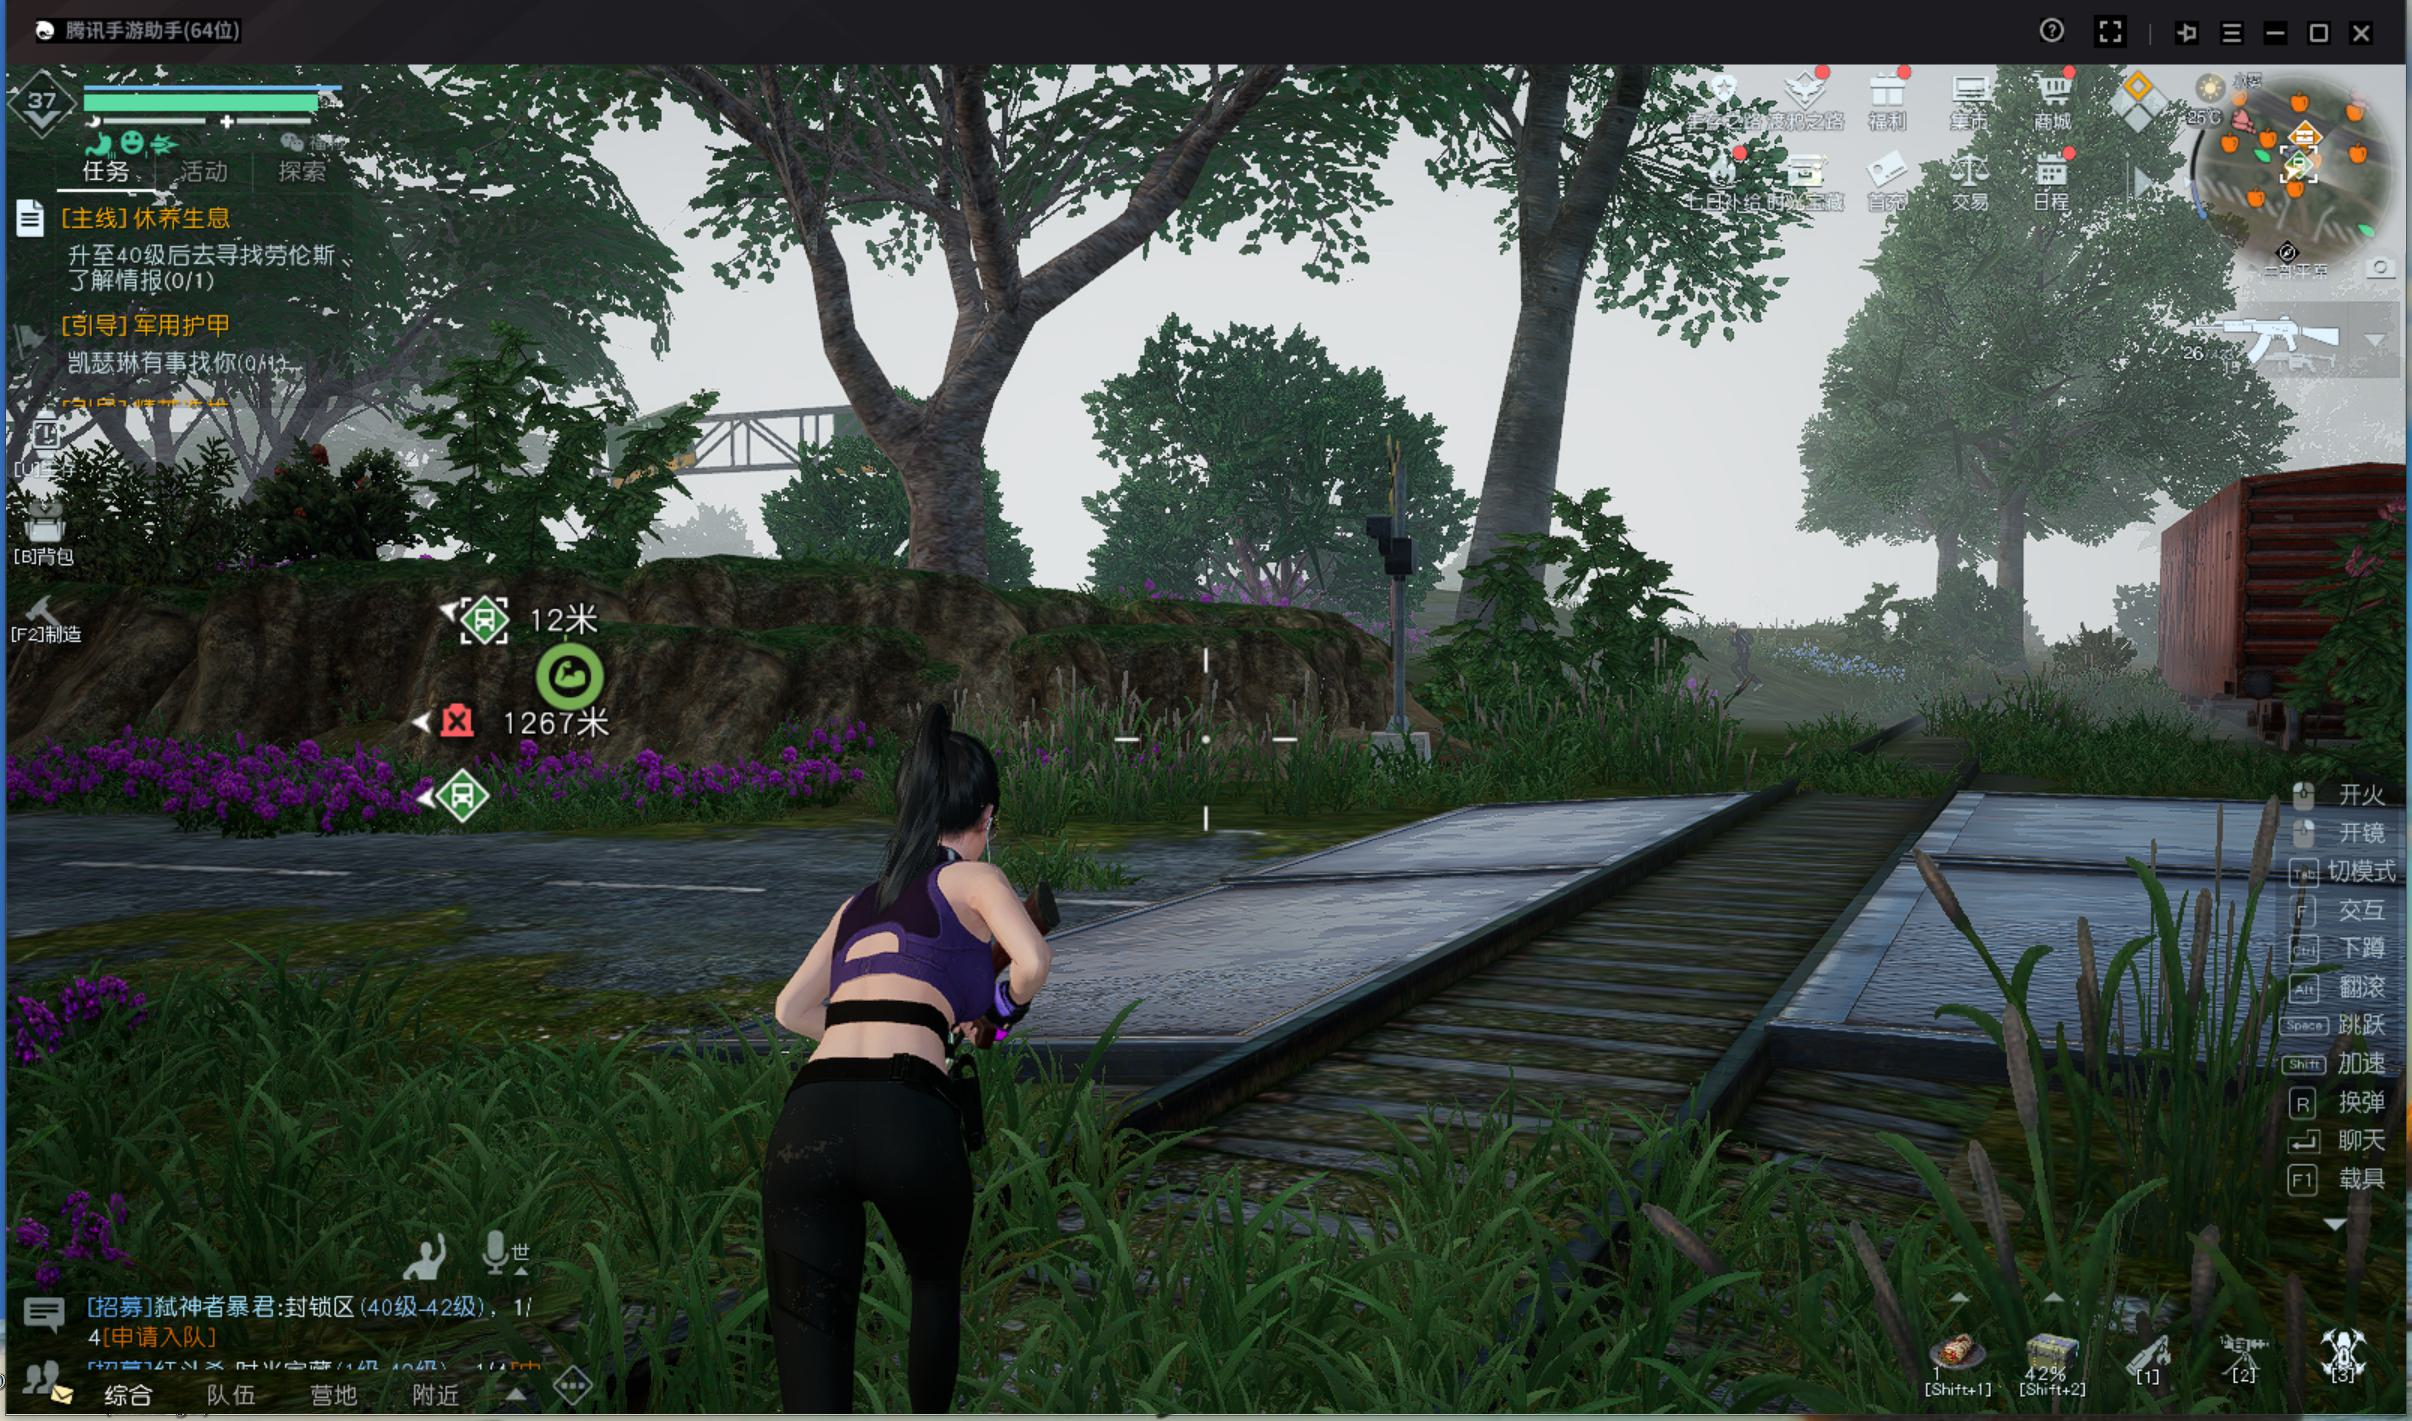tree: (1448, 266, 1587, 683), (858, 389, 1025, 604), (1991, 526, 2038, 660), (1923, 535, 1974, 624)
